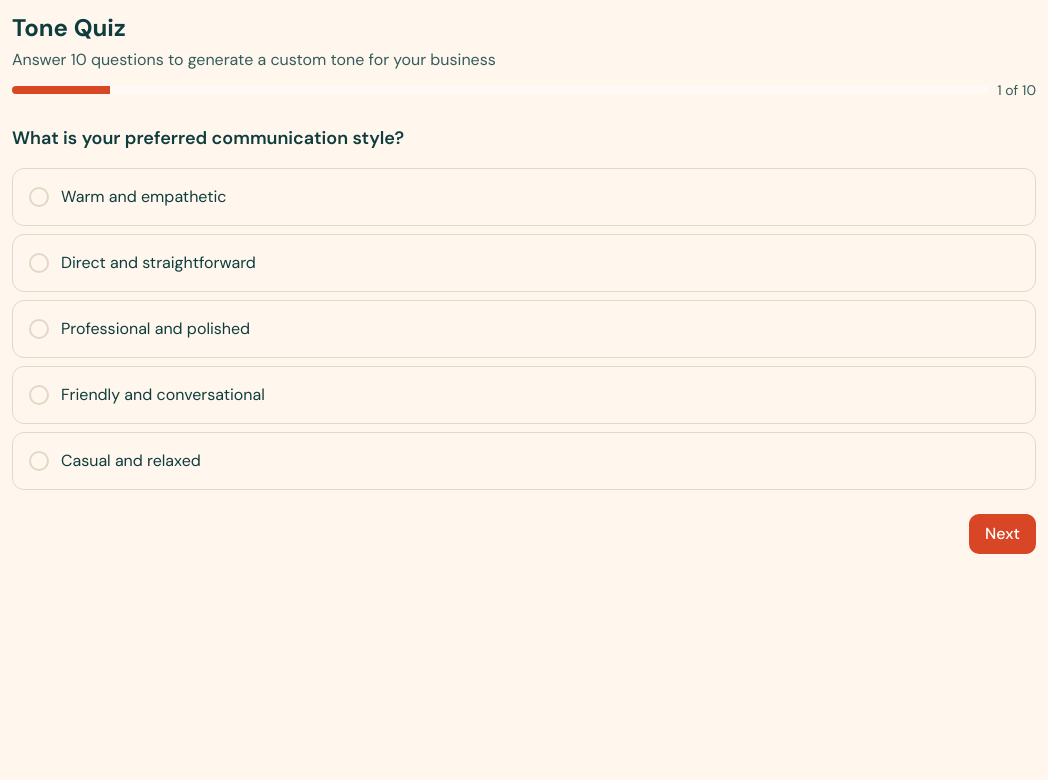
Test: components/voice-profile/ToneQuiz › Question navigation › shows error when trying to advance without selecting answer
This screenshot has width=1048, height=780.
Step 1. Click the button "Next" → click(1003, 534), box x1=969 y1=514 x2=1036 y2=554
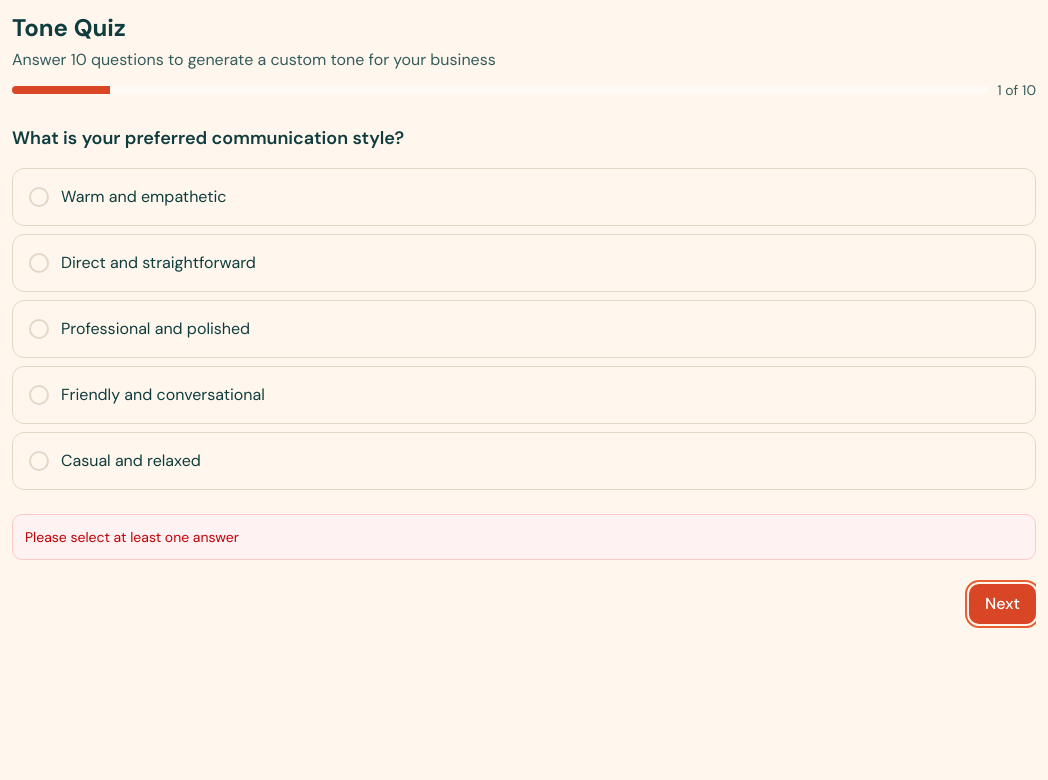
Check: the text "Please select at least one answer" is shown, box x1=12 y1=514 x2=1036 y2=560
